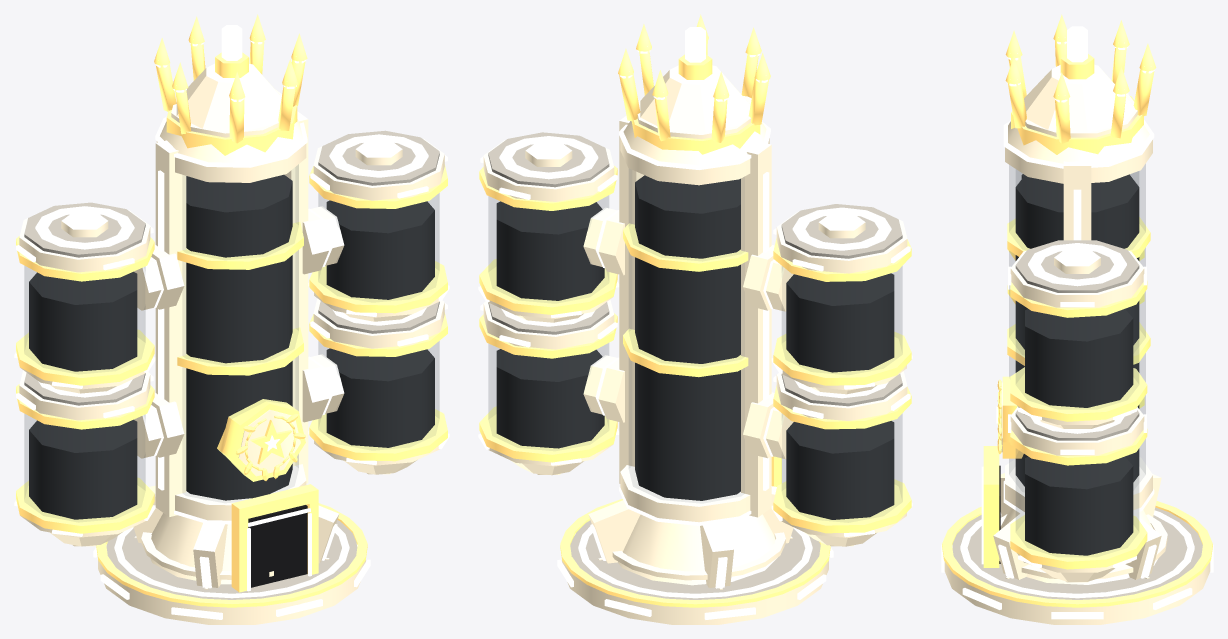
Rendered from Vat_Graduate_T4.glb.
3 renders of one model, left to right at view 1: azimuth 30°, elevation 25°; view 2: azimuth 150°, elevation 25°; view 3: azimuth 270°, elevation 25°, orthographic.
Visible parts, largest first — view 1: Vat_Graduate_T4; view 2: Vat_Graduate_T4; view 3: Vat_Graduate_T4.
Part boxes in pixels (<box>): Vat_Graduate_T4: <box>14,14,449,624</box>; Vat_Graduate_T4: <box>478,14,912,624</box>; Vat_Graduate_T4: <box>941,14,1213,624</box>.
Bounding box in the file's own units: 7.33 × 9.22 × 4.18.
